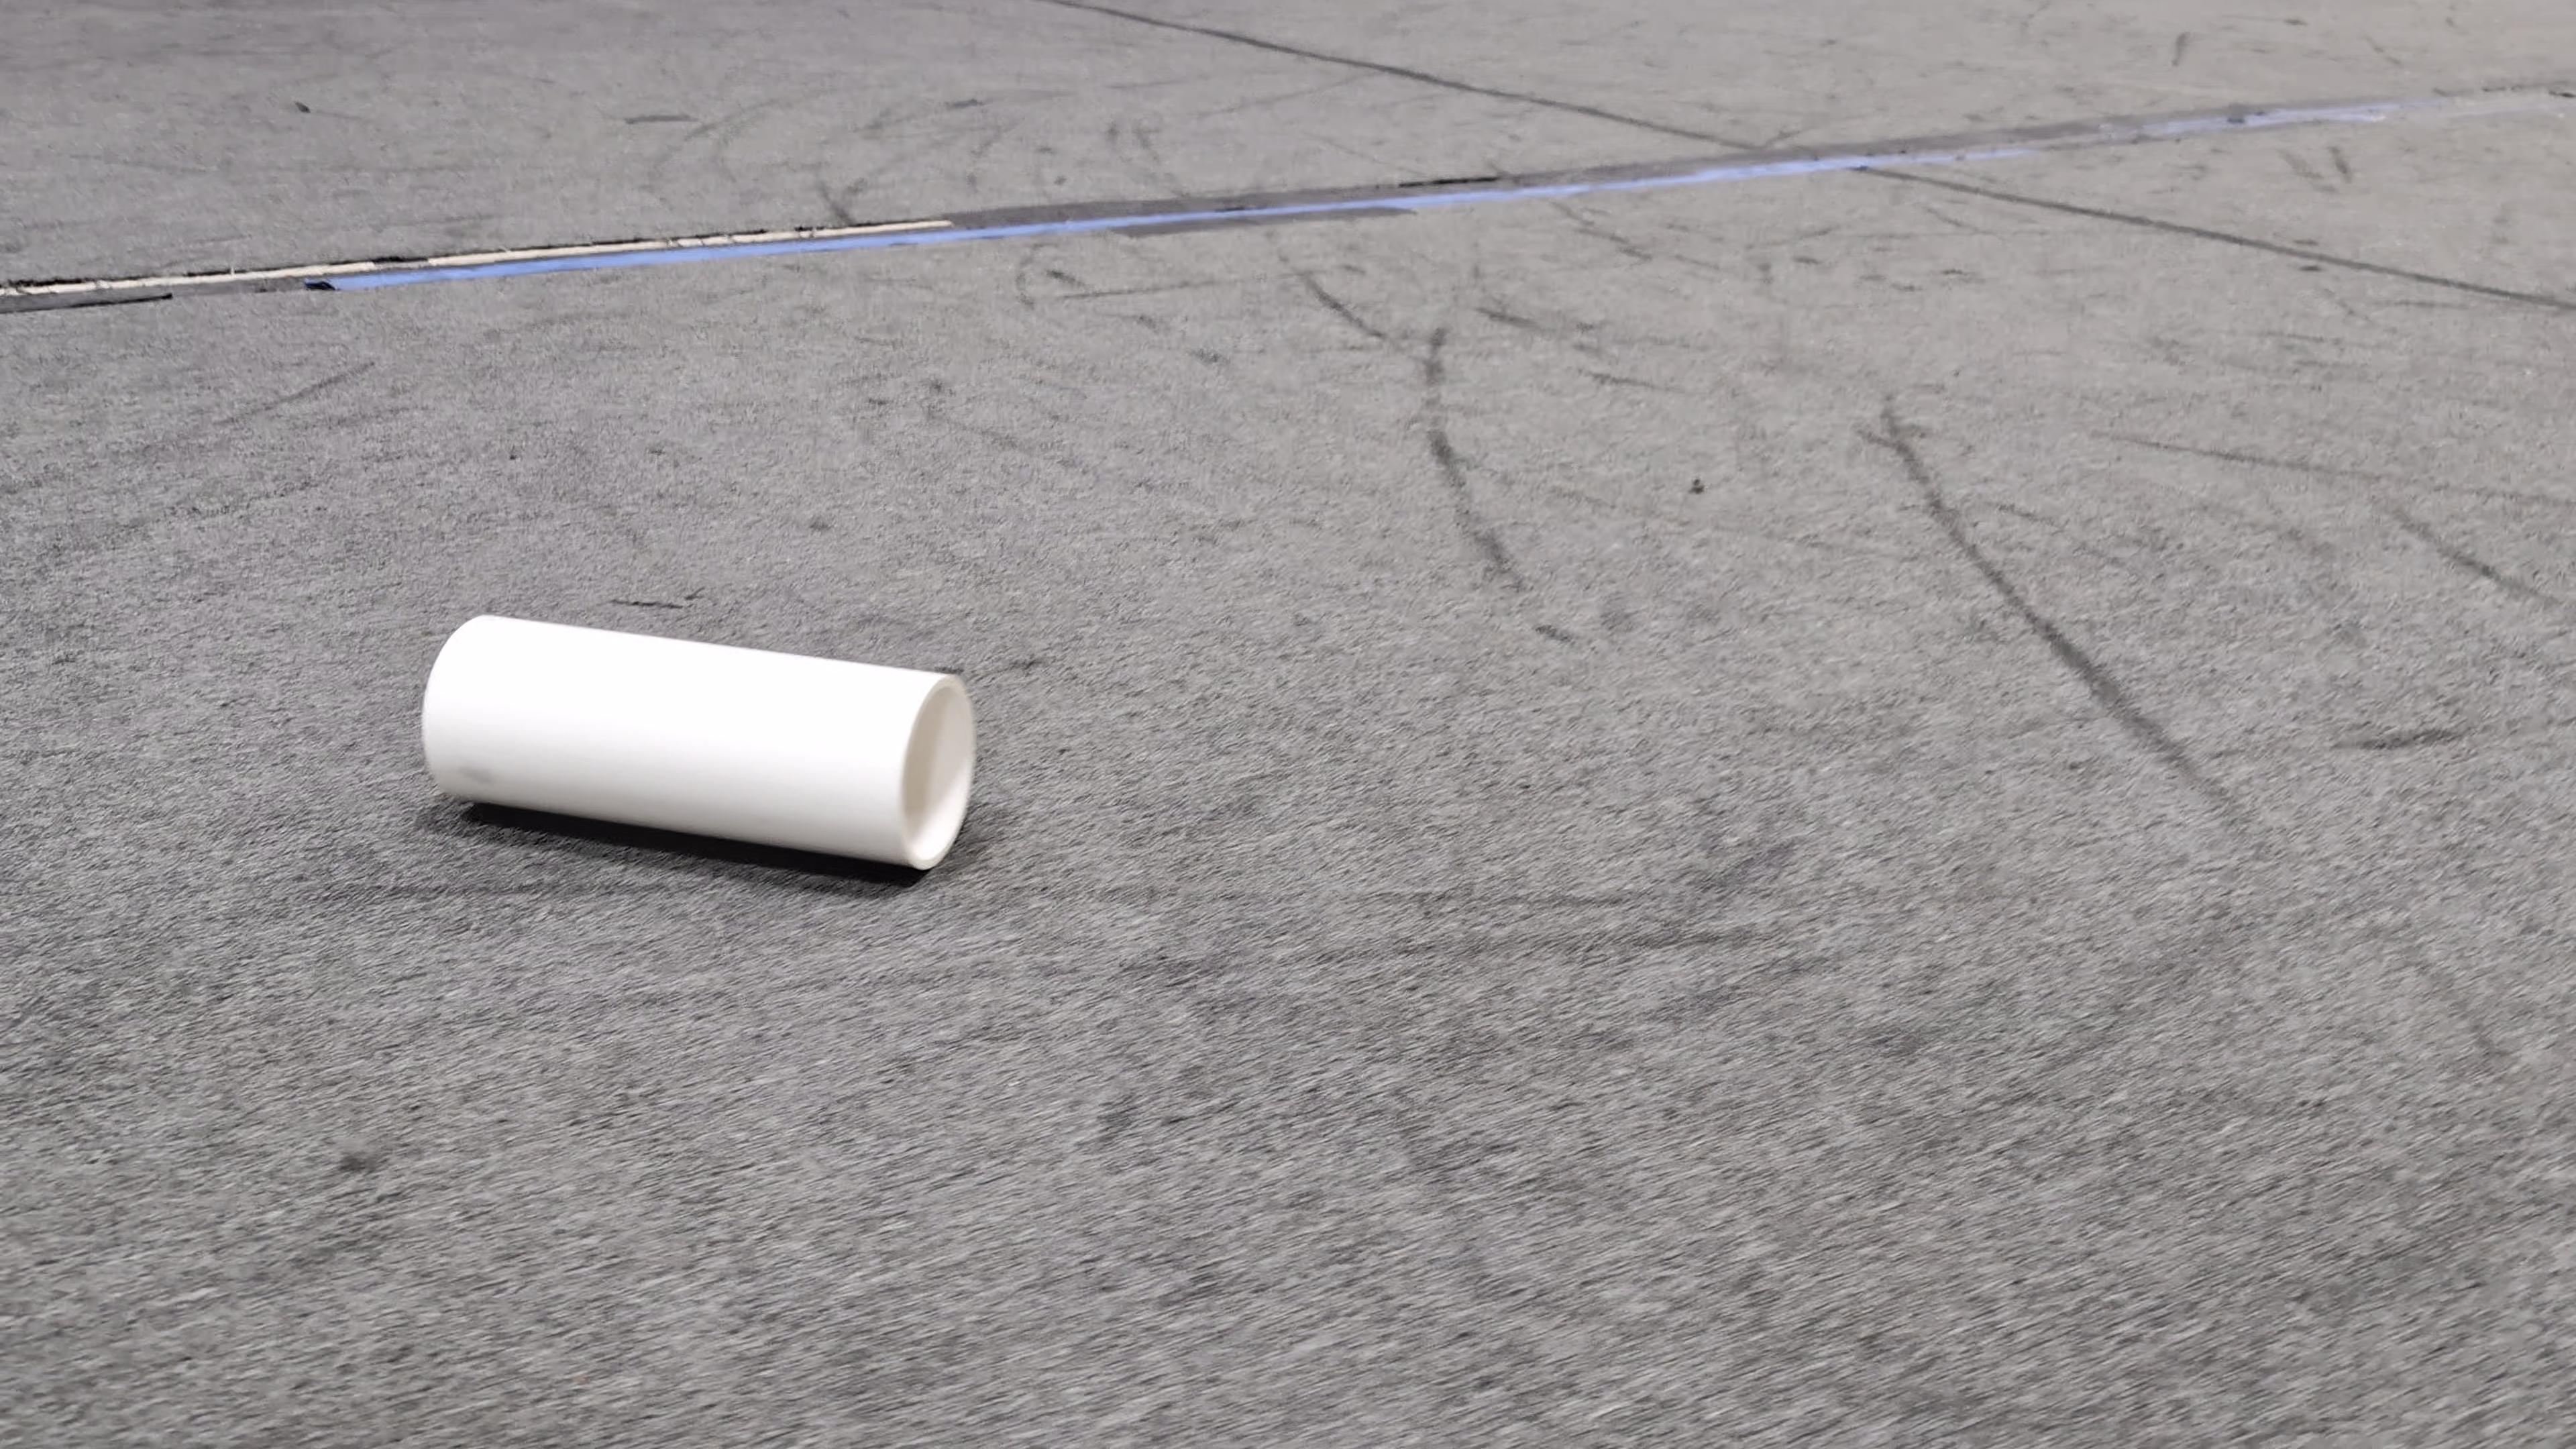coral: (425, 616, 975, 872)
